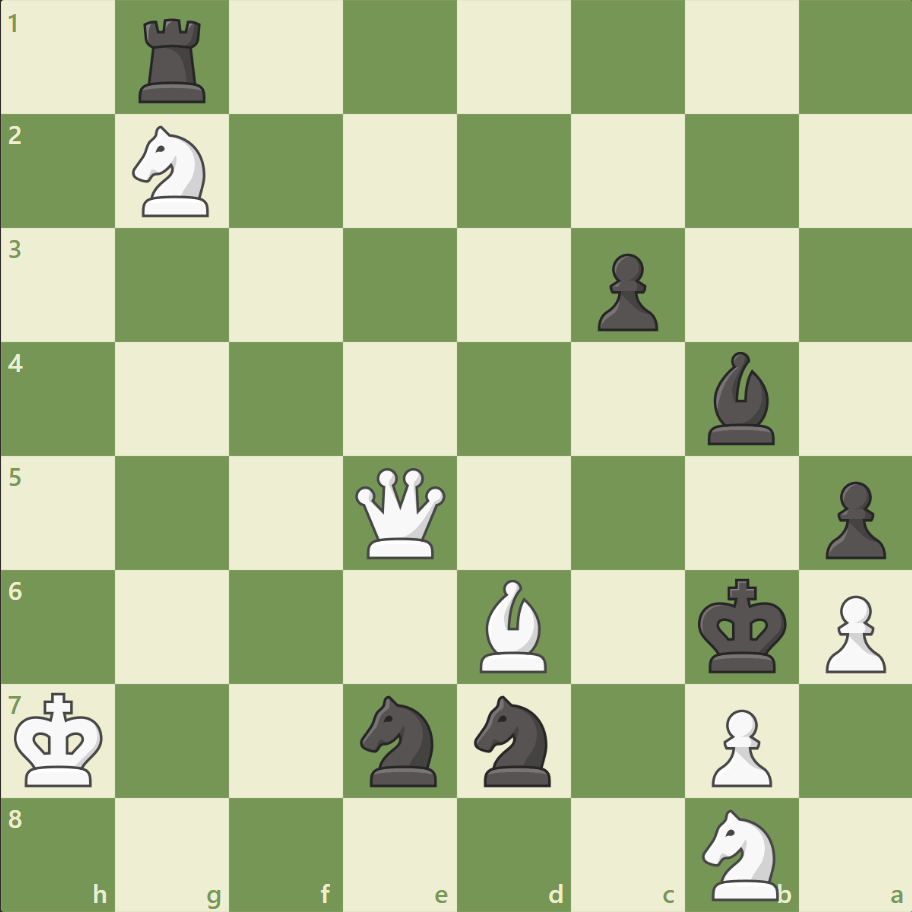B: (471, 574, 555, 676)
K: (11, 685, 111, 793)
N: (124, 121, 222, 223), (692, 802, 789, 904)
P: (701, 700, 776, 791), (815, 586, 889, 677)
Q: (351, 463, 450, 562)
b: (698, 347, 782, 449)
k: (692, 571, 792, 679)
n: (351, 688, 449, 791), (465, 688, 562, 791)
p: (815, 473, 889, 564), (588, 246, 662, 337)
r: (133, 12, 215, 109)
